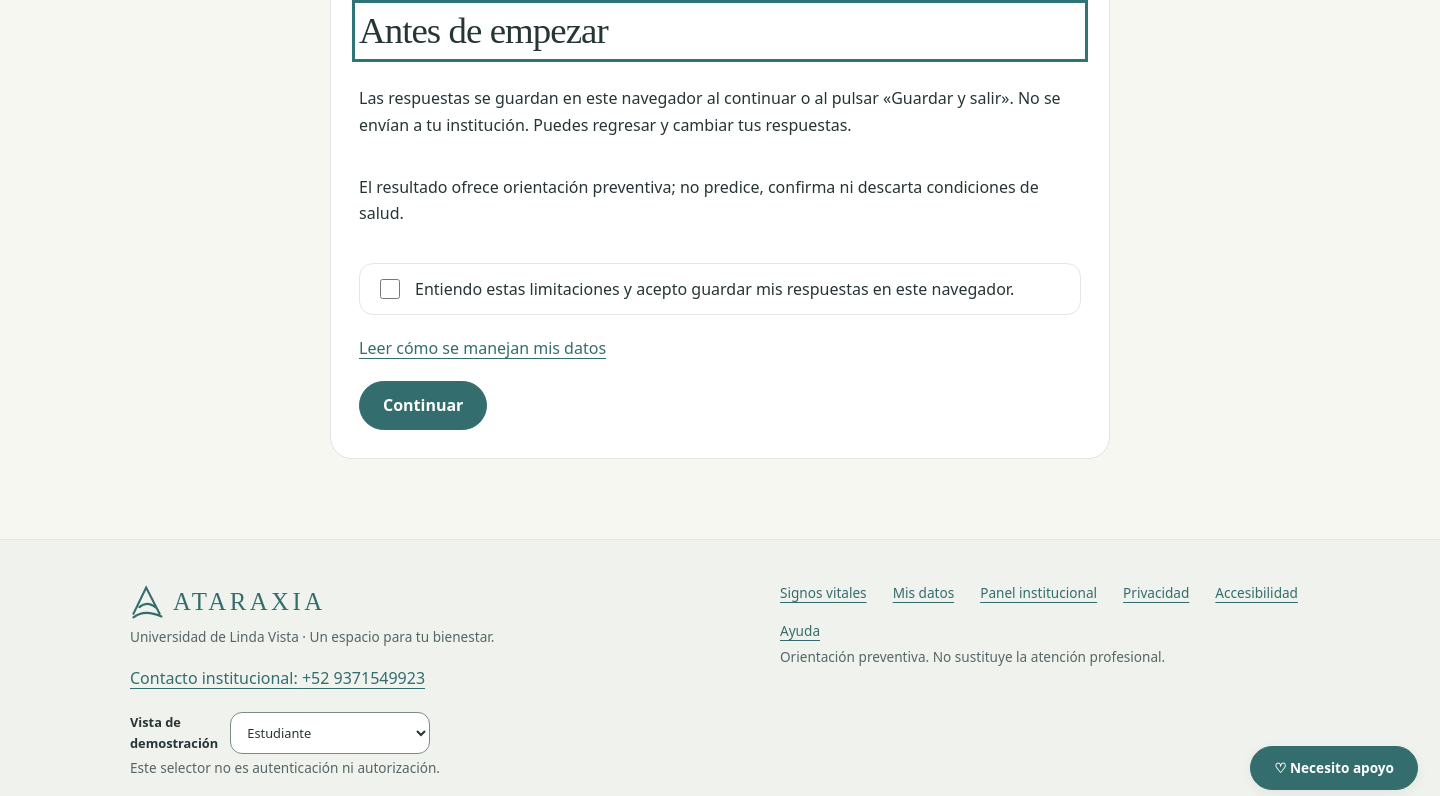
Test: accessible routes and navigation › keeps evaluation consent explicit and presents an accessible error
(page scrolled)
Click the button "Continuar": [423, 406] box [359,382,487,430]
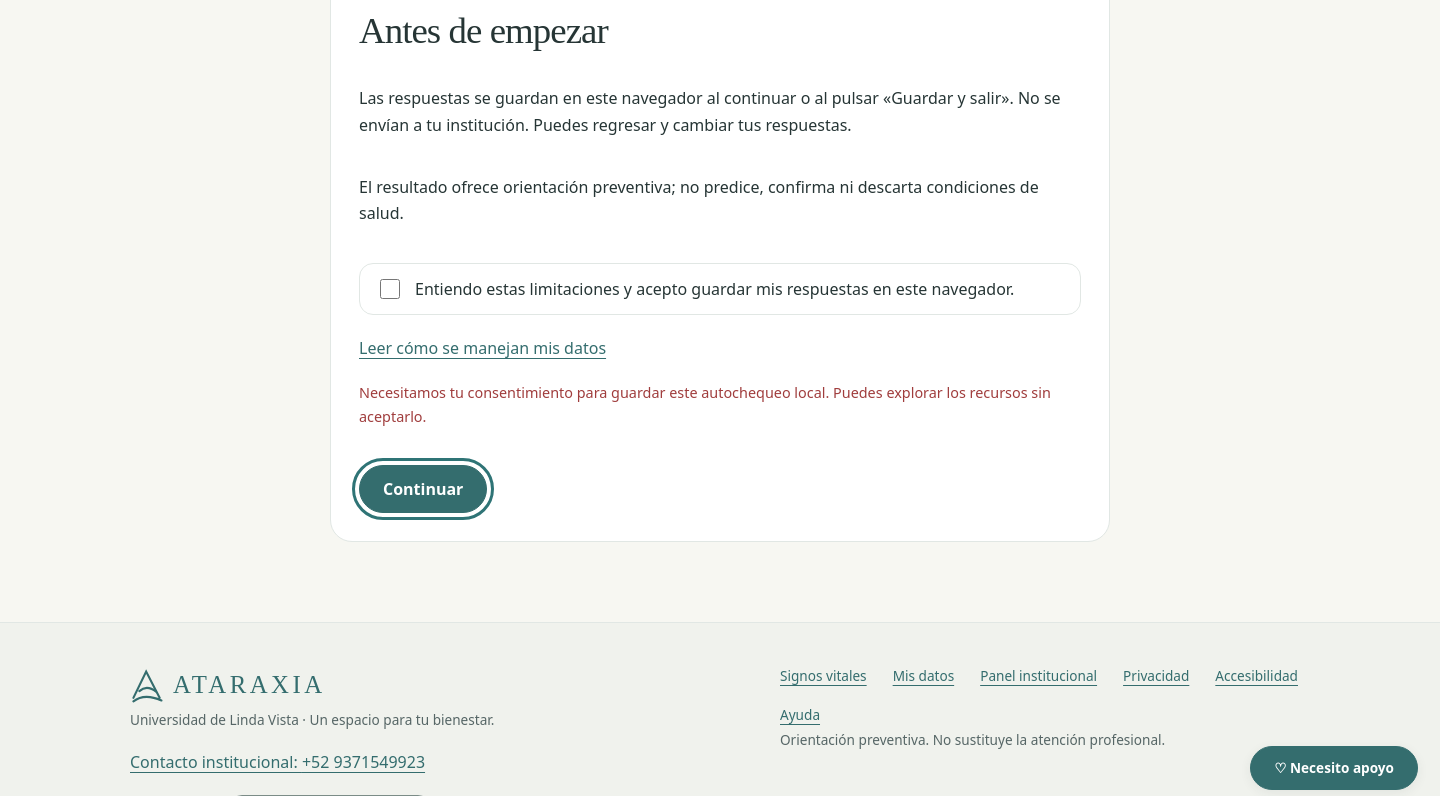
Check: the checkbox is not checked, box [380,279,400,299]
Check: the message shows "consentimiento", box [359,384,1051,426]
